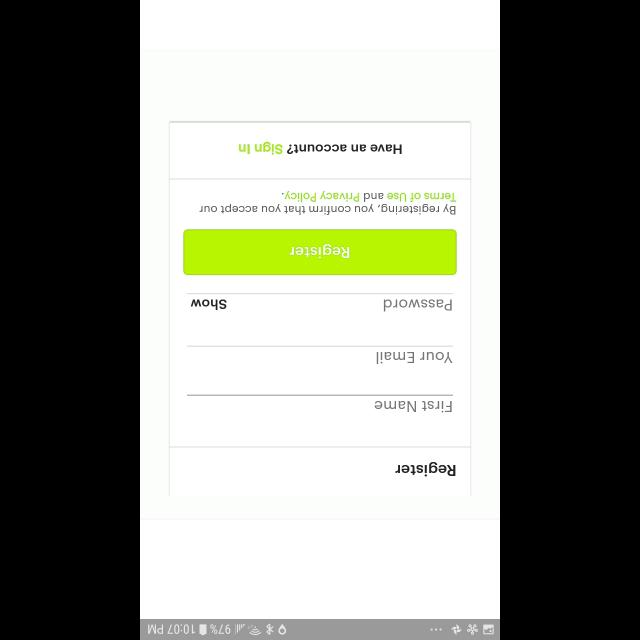input: (187, 344, 453, 364), (187, 292, 453, 312), (187, 393, 453, 412)
text: (199, 192, 456, 214), (238, 142, 402, 154), (374, 400, 452, 412), (376, 351, 452, 363), (396, 462, 456, 476), (383, 299, 452, 311), (190, 298, 226, 310)
textbutton: (184, 229, 456, 275)
uppertaskbar: (140, 618, 500, 640)
